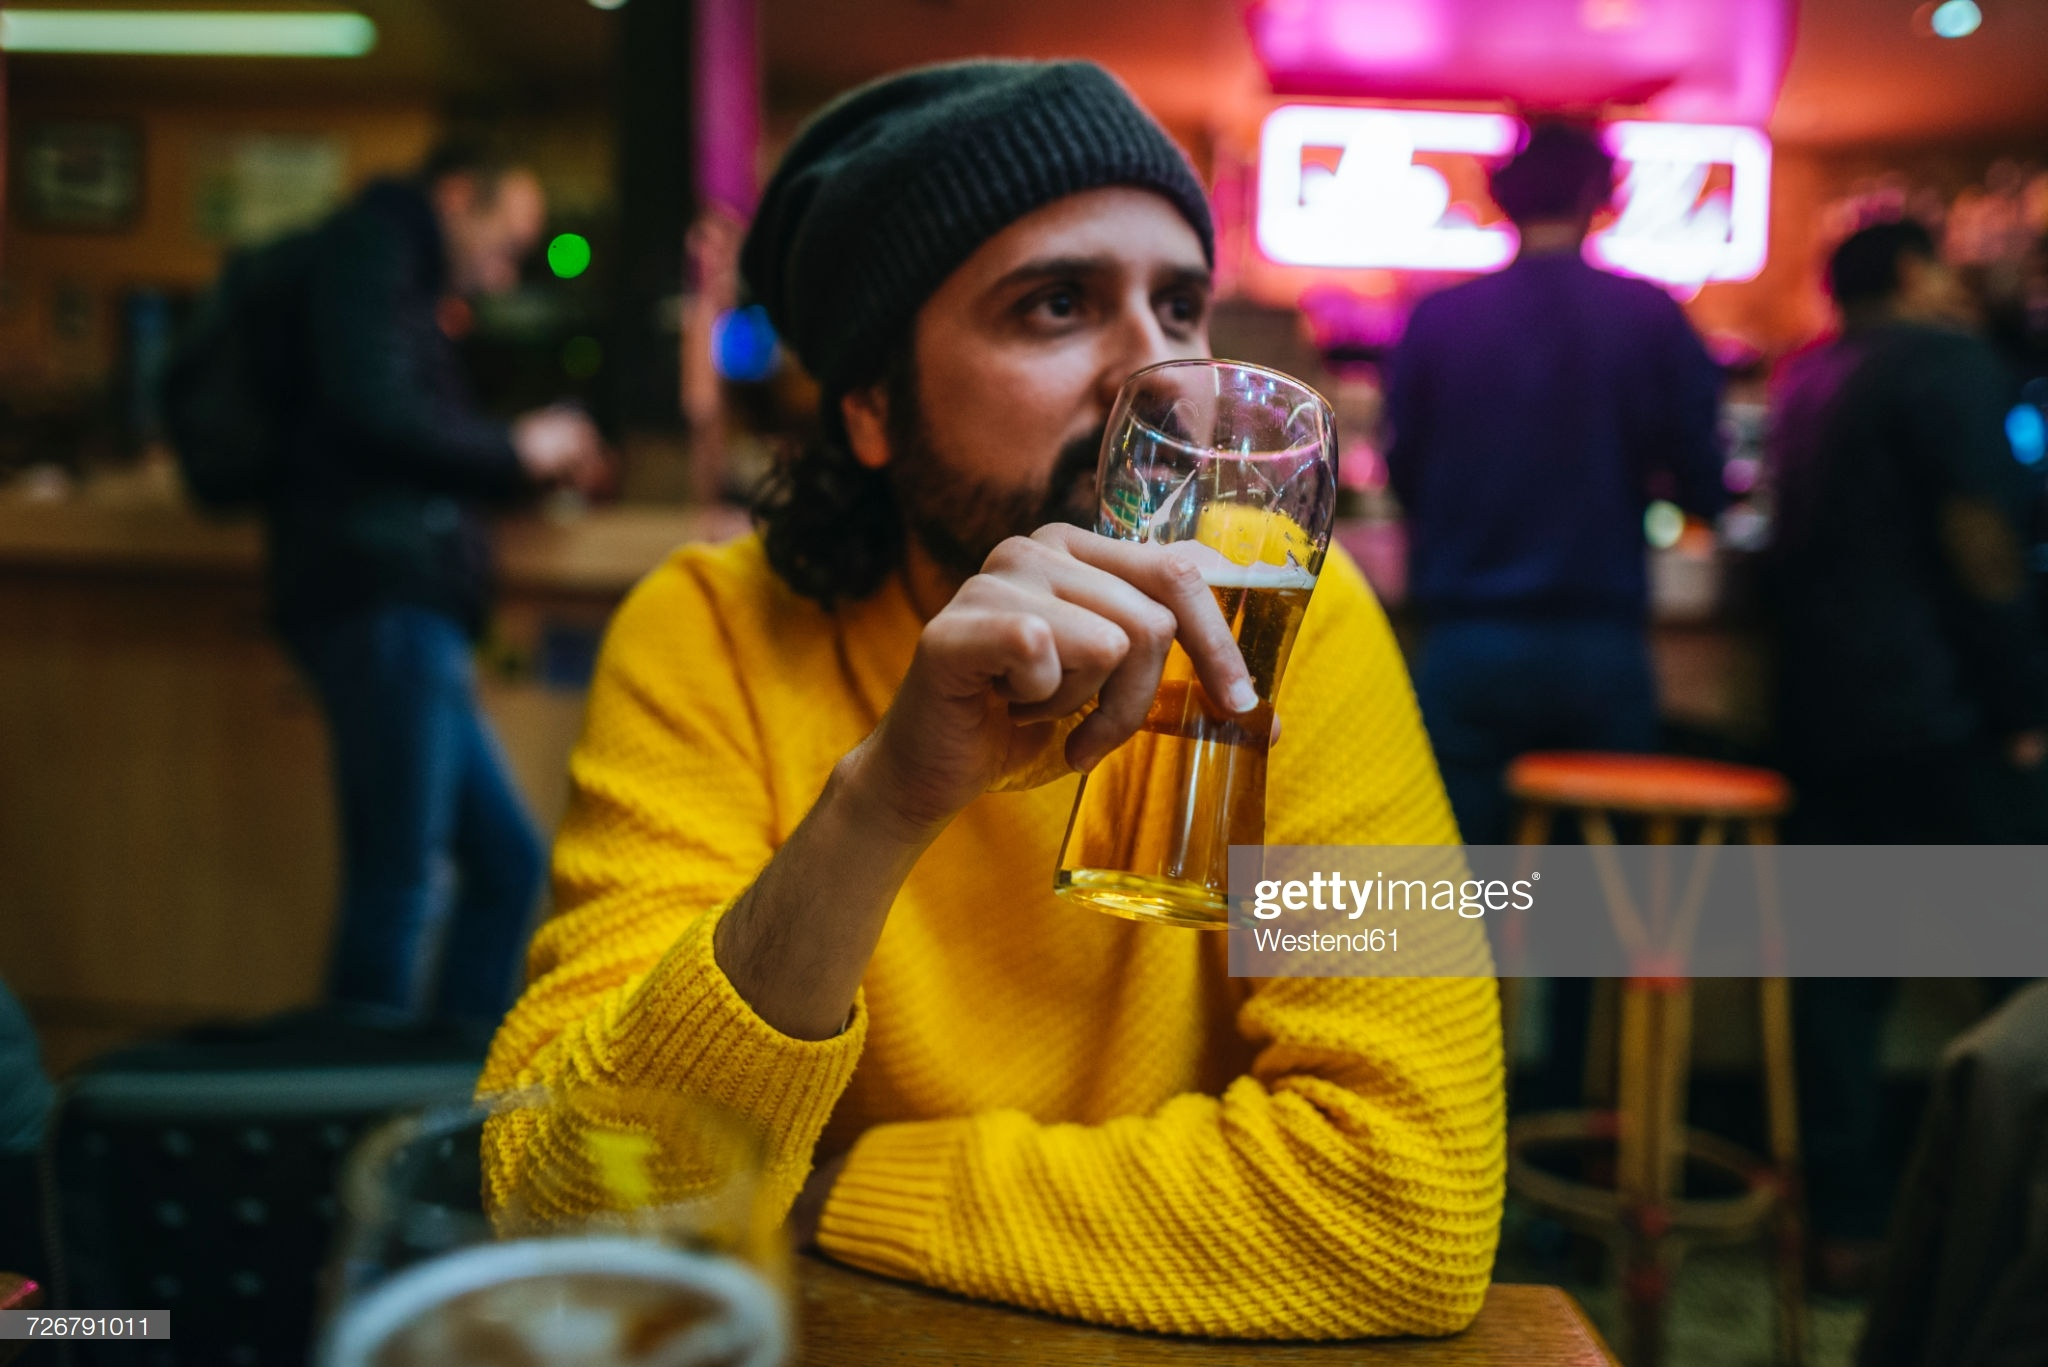glassBeer: (1032, 365, 1362, 908)
